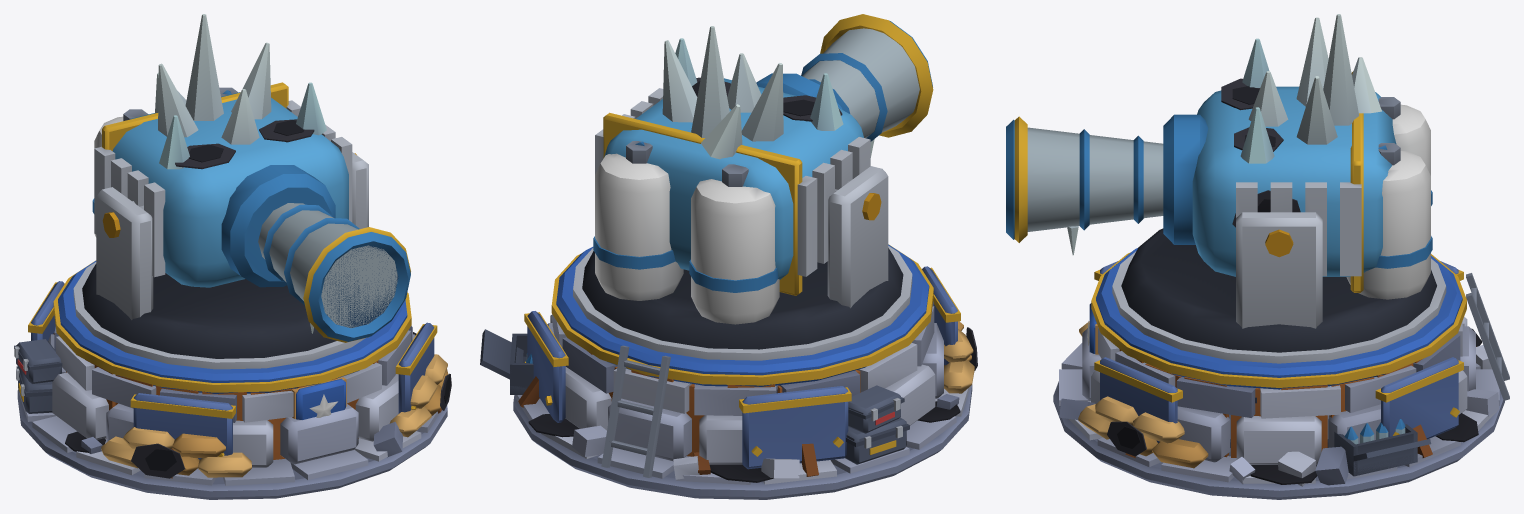
The model's file is t_ice.glb.
The picture shows the model from 3 angles, left to right: view 1: azimuth 30°, elevation 25°; view 2: azimuth 150°, elevation 25°; view 3: azimuth 270°, elevation 25°; orthographic projection. The views are drawn at different scales.
Visible parts, largest first — view 1: pitch, head, lv4_stone, base, lv7_armor, lv4_fins, lv7_trim, dmg2_base, lvmax3_wood, dmg2_head, dmg1_base, dmg1_head; view 2: head, pitch, lv4_stone, base, lv7_armor, lv7_trim, lv4_fins, lv7_ladder, dmg2_base, dmg1_base, lvmax3_wood, dmg2_head; view 3: pitch, head, lv4_stone, base, lv7_armor, lv7_trim, lv4_fins, dmg1_base, dmg2_base, lvmax3_wood, lv7_ladder, dmg2_head.
Boxes of the visible parts, x1,y1,x2,y2 form: pitch: (112,14,410,341); head: (73,87,368,369); lv4_stone: (48,261,415,467); base: (14,339,448,499); lv7_armor: (28,260,437,459); lv4_fins: (94,100,352,277); lv7_trim: (102,82,410,342); dmg2_base: (131,332,416,478); lvmax3_wood: (53,333,441,478); dmg2_head: (175,143,235,169); dmg1_base: (65,373,451,453); dmg1_head: (259,119,314,142); head: (573,141,912,360); pitch: (604,20,932,279); lv4_stone: (547,244,943,464); base: (480,321,974,499); lv7_armor: (524,244,960,469); lv7_trim: (603,14,933,295); lv4_fins: (595,88,870,276); lv7_ladder: (601,345,670,477); dmg2_base: (673,327,977,482); dmg1_base: (528,394,960,456); lvmax3_wood: (518,351,860,476); dmg2_head: (783,95,842,121); pitch: (1006,14,1396,276); head: (1112,97,1446,363); lv4_stone: (1082,248,1475,464); base: (1053,321,1504,499); lv7_armor: (1091,252,1466,443); lv7_trim: (1014,38,1363,292); lv4_fins: (1236,182,1361,276); dmg1_base: (1107,389,1499,486); dmg2_base: (1059,329,1491,485); lvmax3_wood: (1095,324,1432,458); lv7_ladder: (1466,273,1509,400); dmg2_head: (1221,78,1300,227).
Size of the model in its own units: 5.19 by 4.79 by 5.58.
